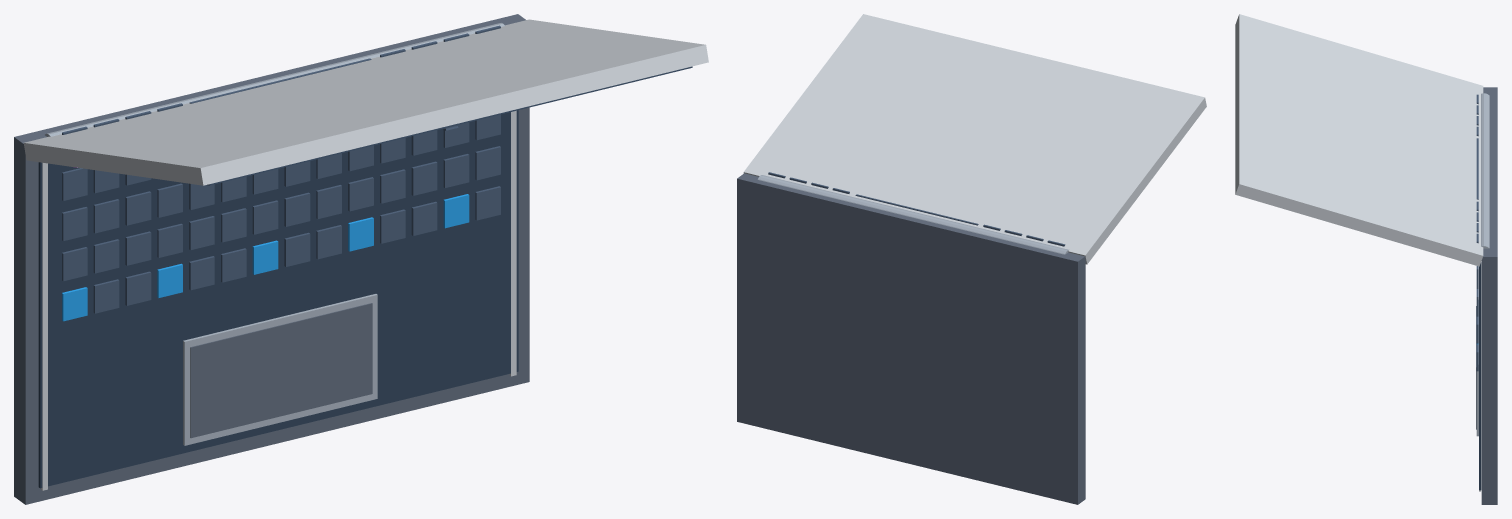
Rendered from techzone_laptop.glb.
3 renders of one model, left to right at view 1: azimuth 30°, elevation 25°; view 2: azimuth 150°, elevation 25°; view 3: azimuth 270°, elevation 25°, orthographic. The views are drawn at different scales.
Visible parts, largest first — view 1: keyboard_deck_2, screen_lid_72, base_1, trackpad_panel_4, trackpad_3, trim_5, hinge_87, trim_6, screen_bezel_73, key_8, key_36, key_37 (+30 smaller); view 2: base_1, screen_lid_72, hinge_87; view 3: screen_lid_72, base_1, hinge_87, keyboard_deck_2.
Boxes of the visible parts, box(x1,y1,x2,y2) form: keyboard_deck_2: box(38, 110, 518, 488); screen_lid_72: box(23, 19, 708, 185); base_1: box(14, 14, 529, 504); trackpad_panel_4: box(190, 303, 372, 438); trackpad_3: box(183, 294, 377, 445); trim_5: box(41, 162, 47, 490); hinge_87: box(45, 23, 504, 136); trim_6: box(509, 110, 516, 376); screen_bezel_73: box(207, 66, 692, 185); key_8: box(93, 279, 119, 313); key_36: box(93, 199, 119, 233); key_37: box(125, 191, 151, 225); base_1: box(737, 173, 1085, 504); screen_lid_72: box(743, 14, 1206, 264); hinge_87: box(757, 175, 1068, 254); screen_lid_72: box(1235, 14, 1483, 266); base_1: box(1481, 87, 1497, 504); hinge_87: box(1481, 93, 1489, 248); keyboard_deck_2: box(1479, 262, 1481, 490).
Bounding box in the file's own units: 3.56 × 3.13 × 2.32.
